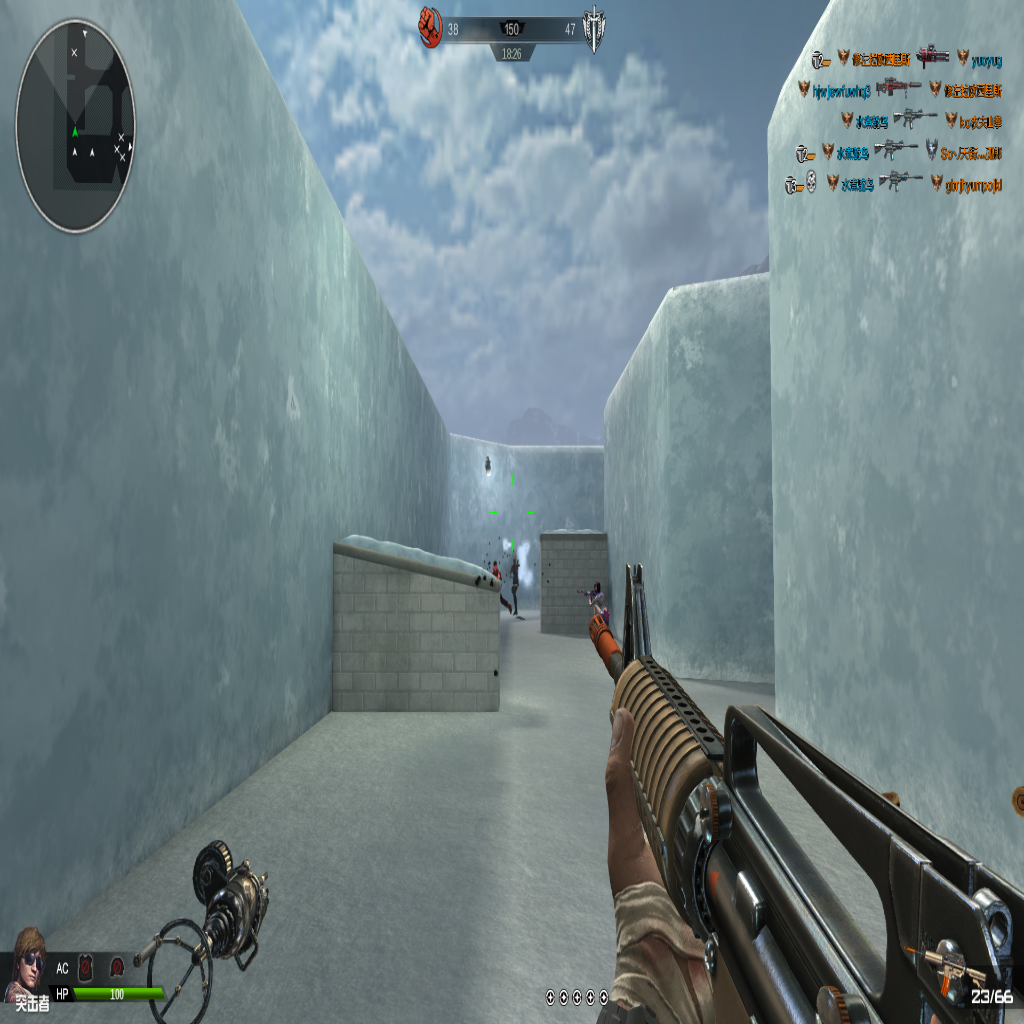ct: (508, 551, 521, 618)
tt: (590, 581, 604, 603)
